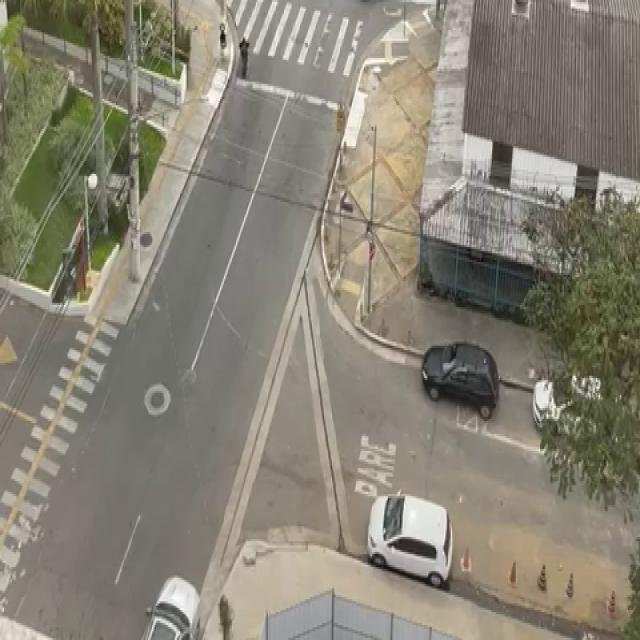car: (365, 487, 456, 591), (421, 336, 502, 429), (138, 569, 206, 640)
motorbike: (237, 31, 253, 90)
